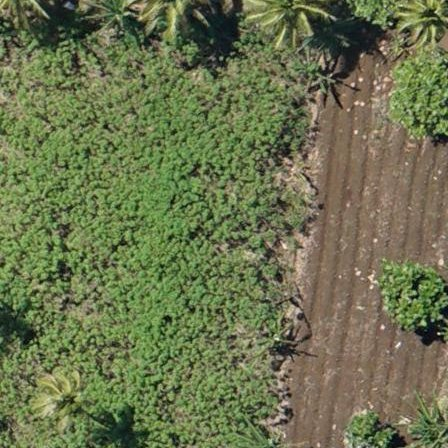palm_tree: (33, 368, 87, 426), (393, 1, 448, 44)
